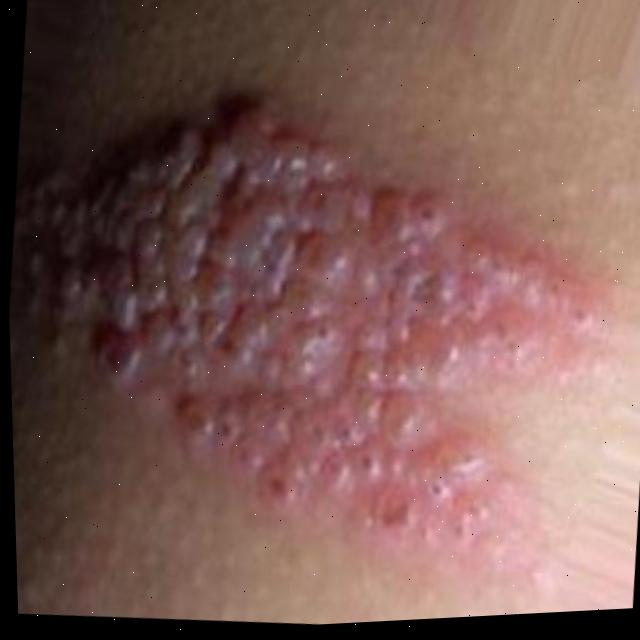Shingles: (3, 64, 629, 569)
